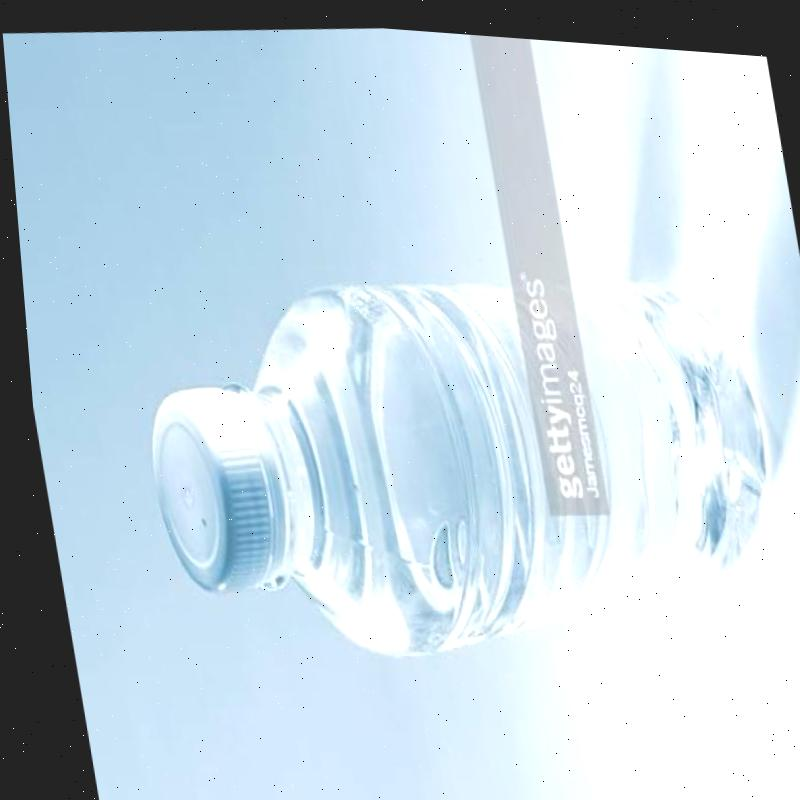botella: (108, 224, 793, 692)
